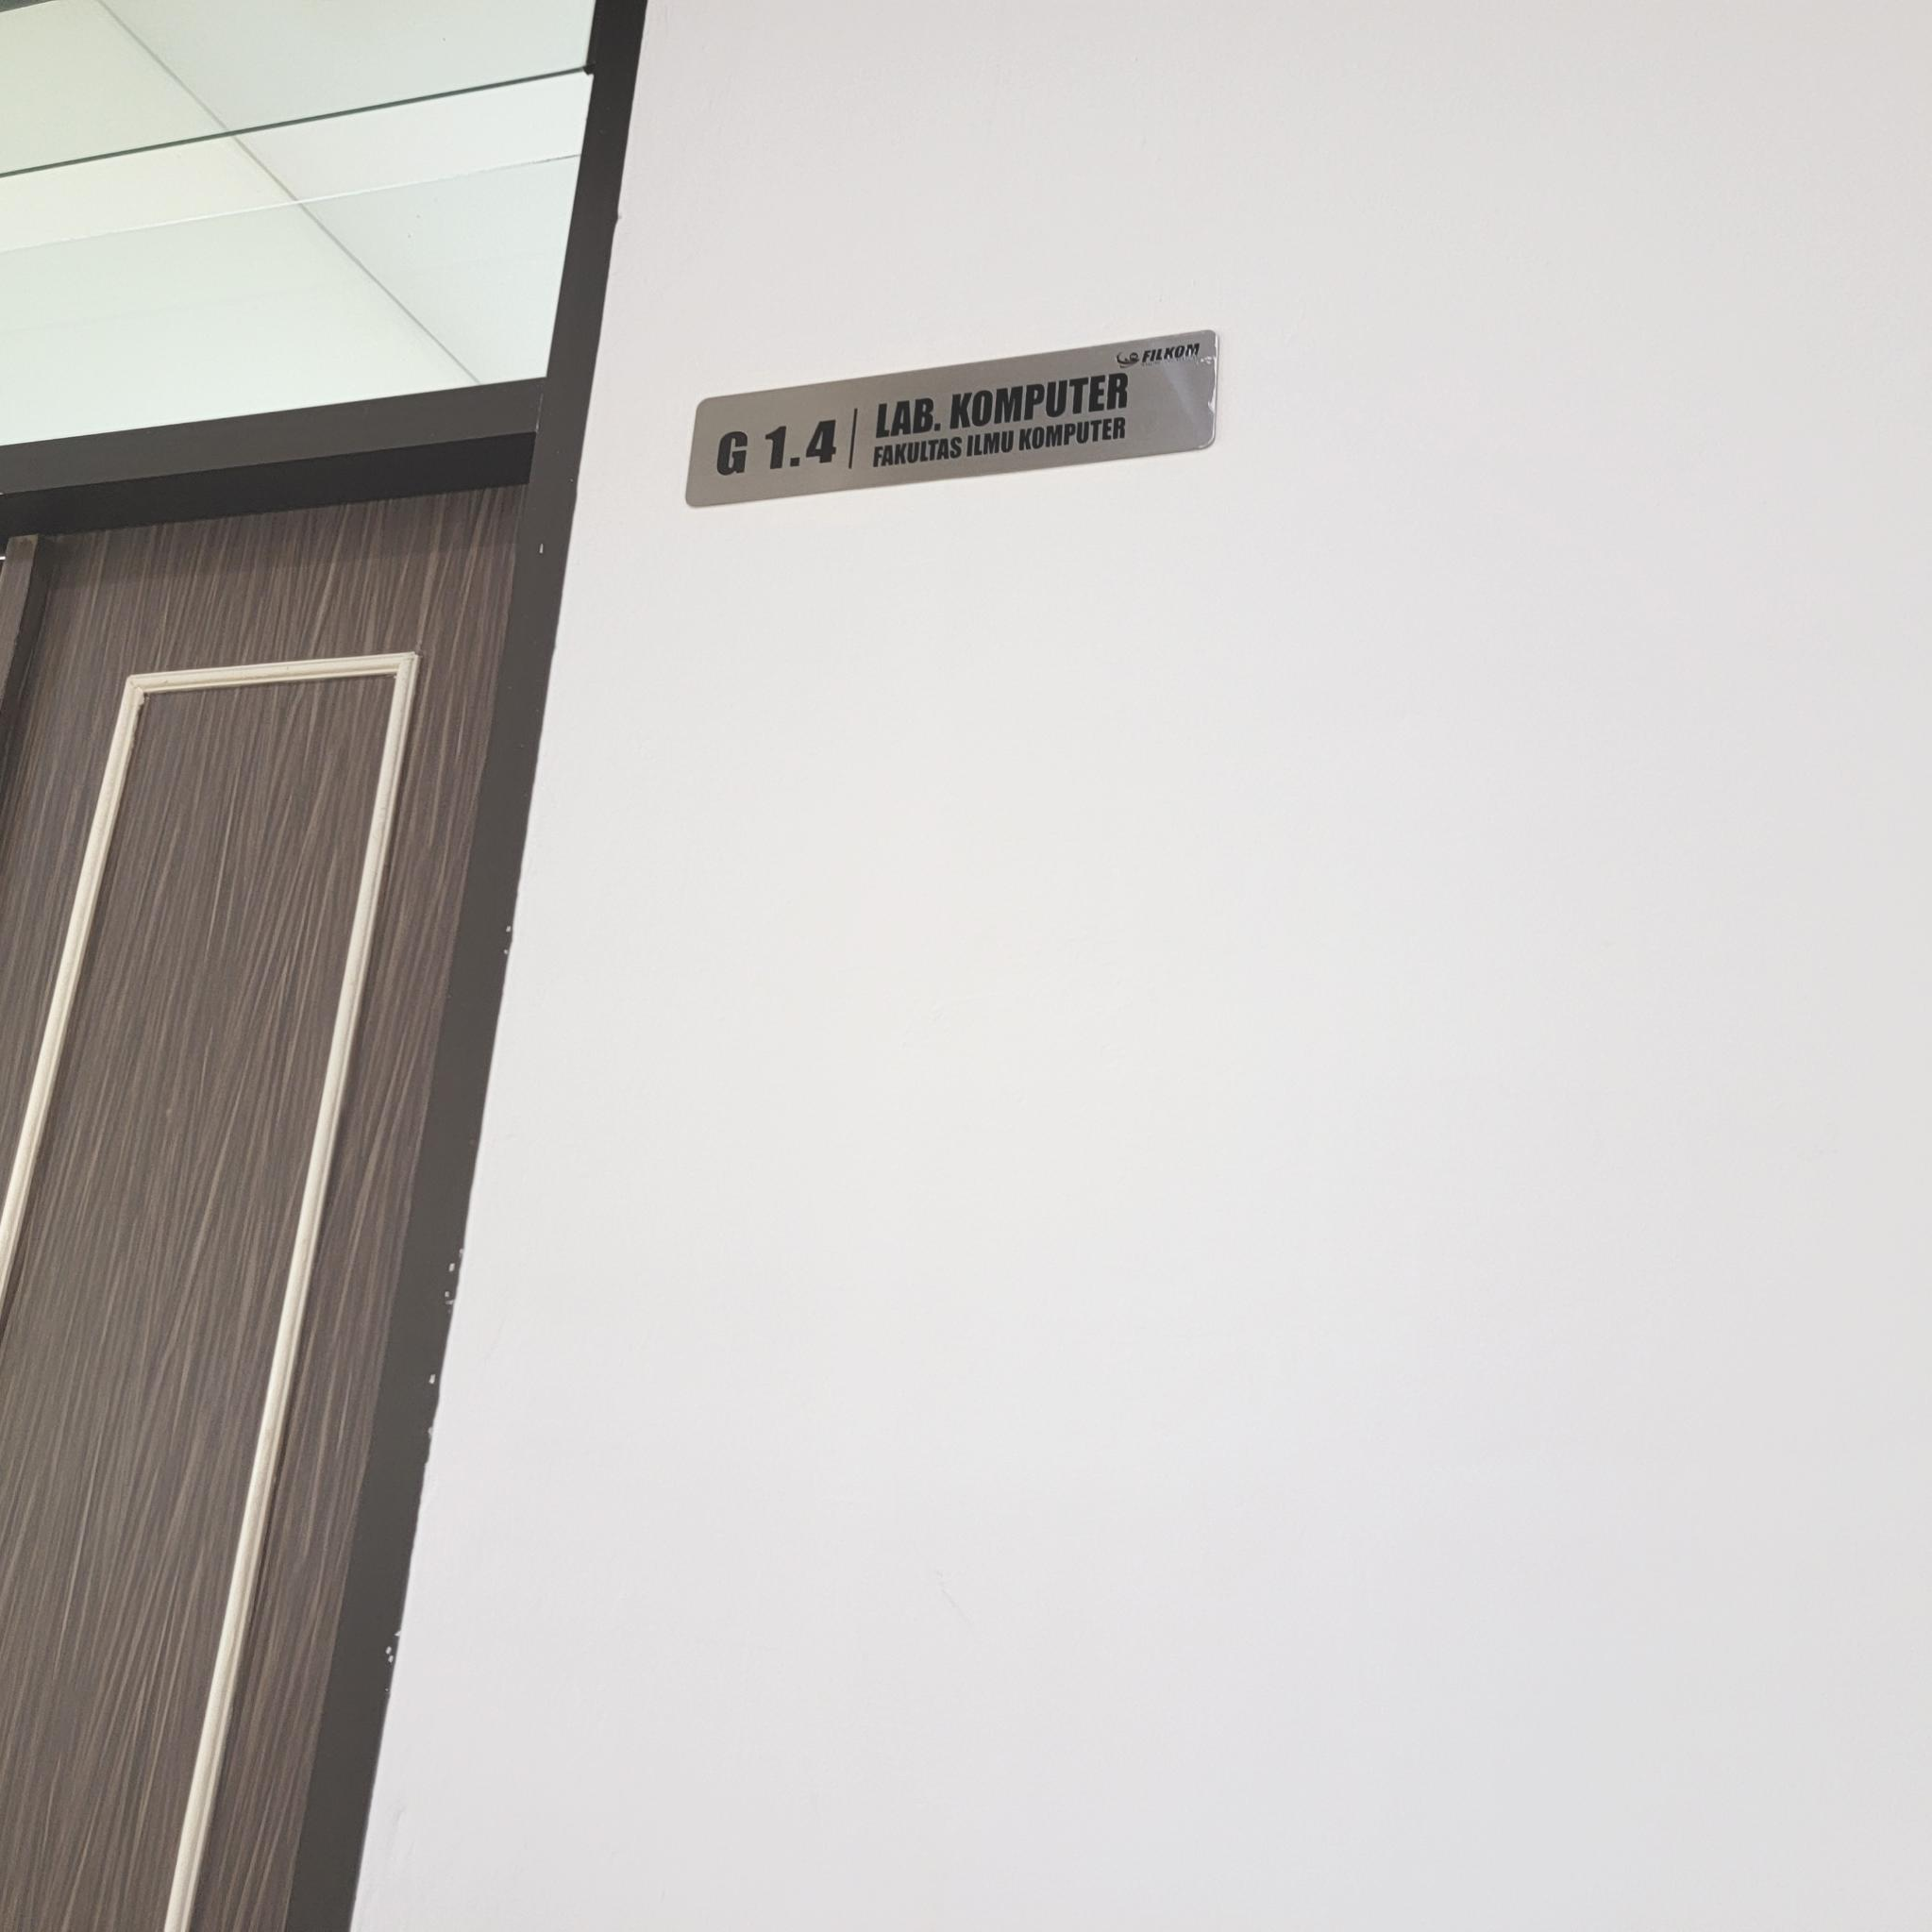plate: (685, 326, 1217, 508)
